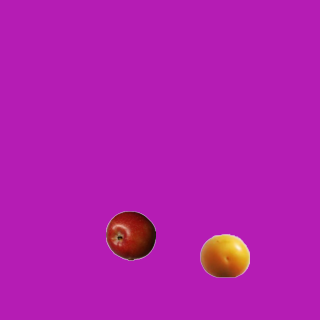Apple Braeburn: (105, 210, 155, 260)
Cherry Wax Yellow: (199, 230, 249, 280)
